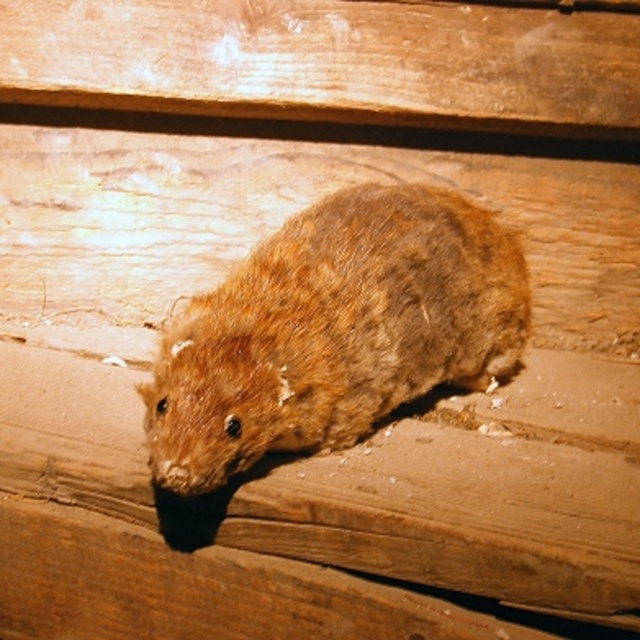Mouse: (133, 181, 534, 497)
